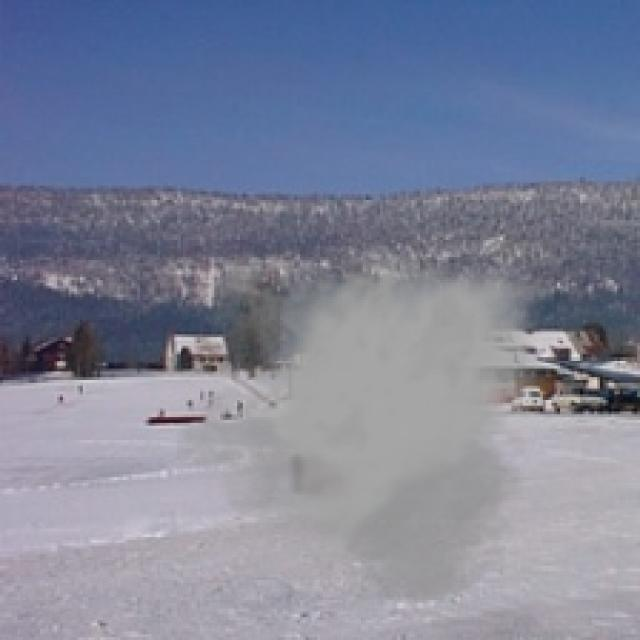smoke: (177, 246, 554, 608)
